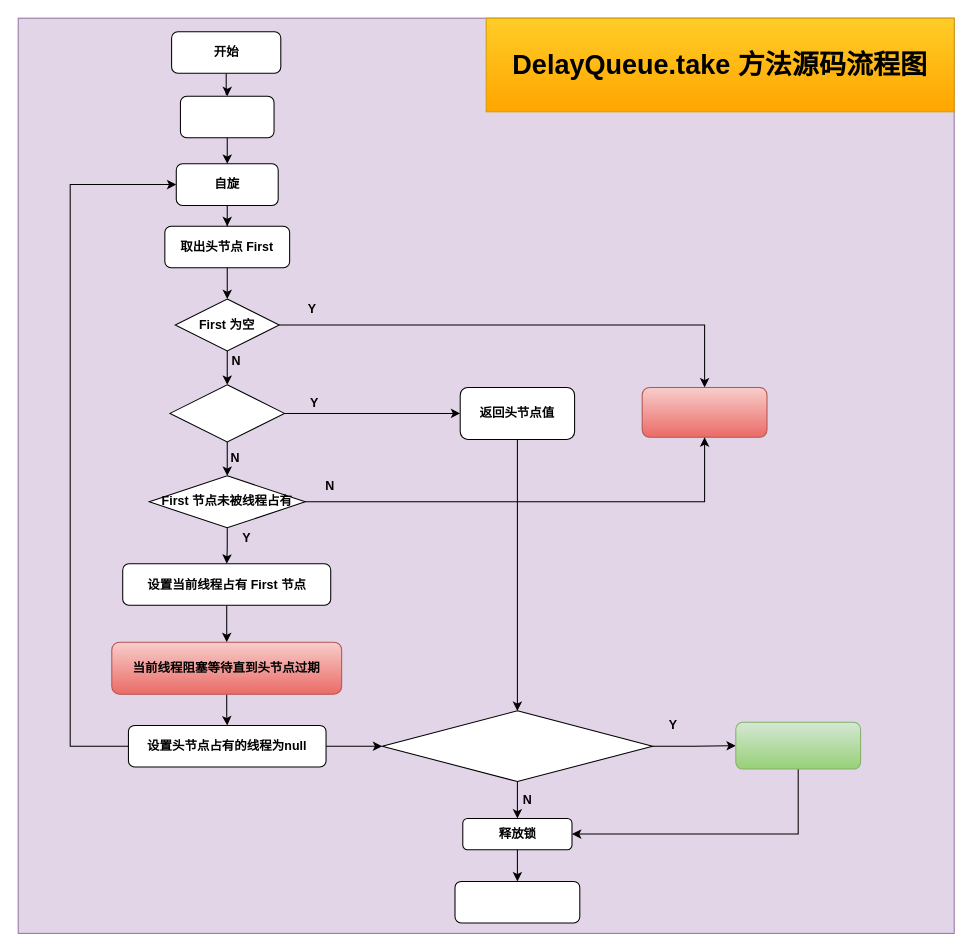
Some shapes in this 972 by 952 pixel diagram are drawn without their labels. Each missing label, with the centre of its shape:
"First 节点未过期" goes at point (226, 413).
"唤醒所有等待线程" goes at point (798, 745).
"头节点占有线程为null && 头节点的值不为null" goes at point (517, 746).
"线程阻塞等待" goes at point (704, 411).
"结束" goes at point (517, 901).
"获取锁" goes at point (226, 116).
